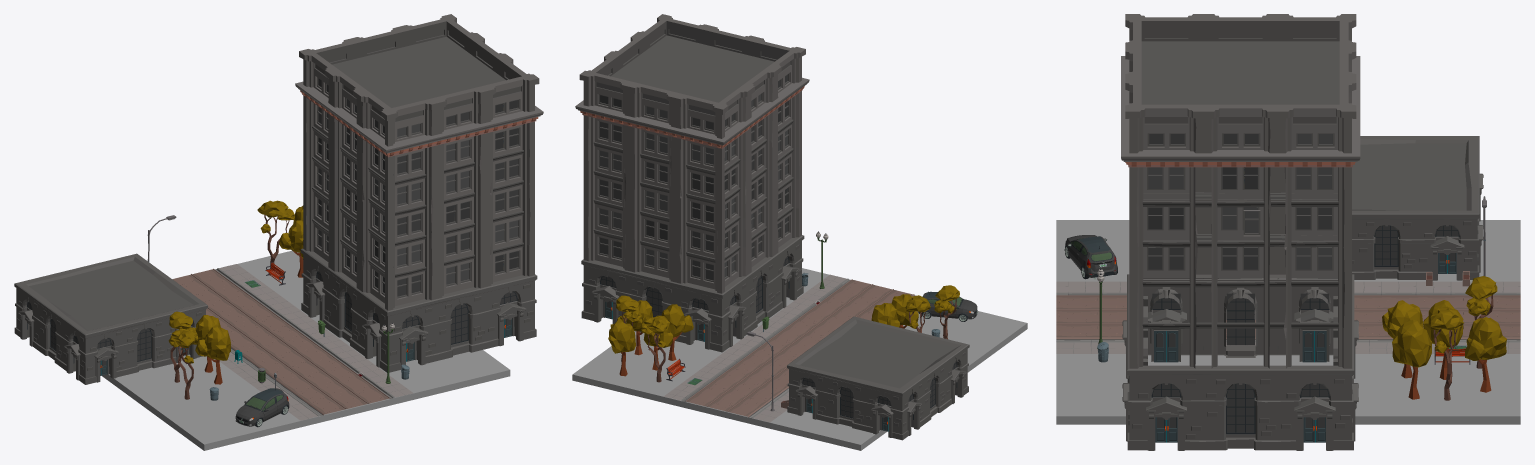
The model's file is City Area 1.fbx.
3 renders of one model, left to right at view 1: azimuth 30°, elevation 25°; view 2: azimuth 150°, elevation 25°; view 3: azimuth 270°, elevation 25°, orthographic. The views are drawn at different scales.
Visible parts, largest first — view 1: SM_Bld_OfficeOld_Large_01.001, SM_Bld_OfficeOld_Large_Base_01, SM_Env_Sidewalk_Straight_01.157, Plane.002, SM_Veh_Car_Small_Wheel_fr, SM_Env_Tree_03.001, SM_Env_Tree_02.002, SM_Env_Tree_02.020, SM_Env_Tree_03.002, SM_Env_Tree_02, SM_Env_Tree_03.013; view 2: SM_Bld_OfficeOld_Large_01.001, SM_Bld_OfficeOld_Large_Base_01, SM_Env_Sidewalk_Straight_01.157, Plane.002, SM_Env_Tree_03.027, SM_Veh_Car_Small_Wheel_fr, SM_Env_Tree_03.029, SM_Env_Tree_02.002, SM_Env_Tree_02.020, SM_Env_Tree_02.040, SM_Env_Tree_02, SM_Env_Tree_03.013 (+3 smaller); view 3: SM_Bld_OfficeOld_Large_01.001, Plane.002, SM_Bld_OfficeOld_Large_Base_01, SM_Env_Sidewalk_Straight_01.157, SM_Veh_Car_Small_Wheel_fr, SM_Env_Tree_03.028, SM_Env_Tree_03.027, SM_Env_Tree_02.040, SM_Env_Tree_02.002, SM_Env_Tree_03.029, SM_Env_Tree_03.002.
Part boxes in pixels (<box>): SM_Bld_OfficeOld_Large_01.001: <box>295,14,543,372</box>; SM_Bld_OfficeOld_Large_Base_01: <box>14,253,207,384</box>; SM_Env_Sidewalk_Straight_01.157: <box>147,215,413,420</box>; Plane.002: <box>101,250,510,450</box>; SM_Veh_Car_Small_Wheel_fr: <box>235,388,289,427</box>; SM_Env_Tree_03.001: <box>195,327,230,384</box>; SM_Env_Tree_02.002: <box>257,200,294,270</box>; SM_Env_Tree_02.020: <box>168,329,195,399</box>; SM_Env_Tree_03.002: <box>278,220,303,277</box>; SM_Env_Tree_02: <box>169,311,196,382</box>; SM_Env_Tree_03.013: <box>193,315,220,372</box>; SM_Bld_OfficeOld_Large_01.001: <box>575,14,809,352</box>; SM_Bld_OfficeOld_Large_Base_01: <box>787,316,969,440</box>; SM_Env_Sidewalk_Straight_01.157: <box>664,231,918,422</box>; Plane.002: <box>572,268,1027,450</box>; SM_Env_Tree_03.027: <box>608,320,635,376</box>; SM_Veh_Car_Small_Wheel_fr: <box>918,291,977,321</box>; SM_Env_Tree_03.029: <box>661,304,693,360</box>; SM_Env_Tree_02.002: <box>639,316,667,382</box>; SM_Env_Tree_02.020: <box>934,285,959,339</box>; SM_Env_Tree_02.040: <box>616,295,641,361</box>; SM_Env_Tree_02: <box>905,295,930,332</box>; SM_Env_Tree_03.013: <box>871,303,899,327</box>; SM_Bld_OfficeOld_Large_01.001: <box>1121,14,1360,450</box>; Plane.002: <box>1056,220,1520,424</box>; SM_Bld_OfficeOld_Large_Base_01: <box>1352,136,1483,280</box>; SM_Env_Sidewalk_Straight_01.157: <box>1056,196,1520,353</box>; SM_Veh_Car_Small_Wheel_fr: <box>1064,235,1117,279</box>; SM_Env_Tree_03.028: <box>1392,319,1431,399</box>; SM_Env_Tree_03.027: <box>1465,317,1506,392</box>; SM_Env_Tree_02.040: <box>1429,306,1463,400</box>; SM_Env_Tree_02.002: <box>1465,276,1497,368</box>; SM_Env_Tree_03.029: <box>1382,300,1423,378</box>; SM_Env_Tree_03.002: <box>1423,300,1463,379</box>.
Bounding box in the file's own units: 12910 × 8282 × 10008.
